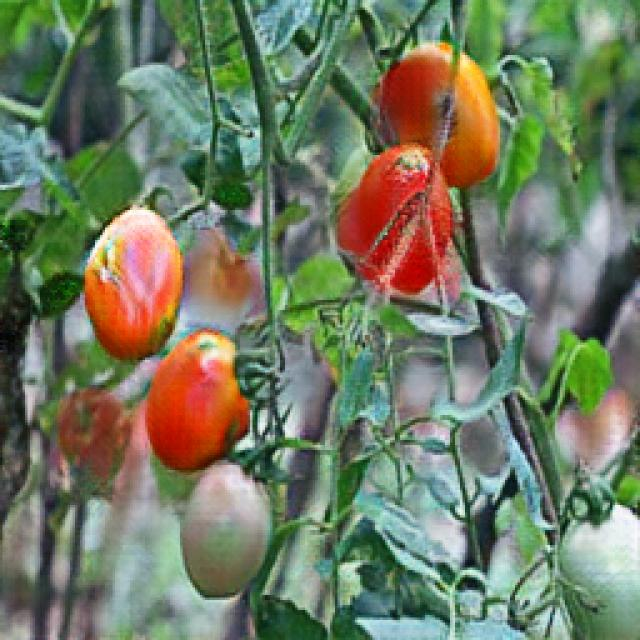overripe tomato: (331, 142, 453, 294), (80, 210, 182, 357), (138, 328, 254, 457), (384, 49, 494, 180)
